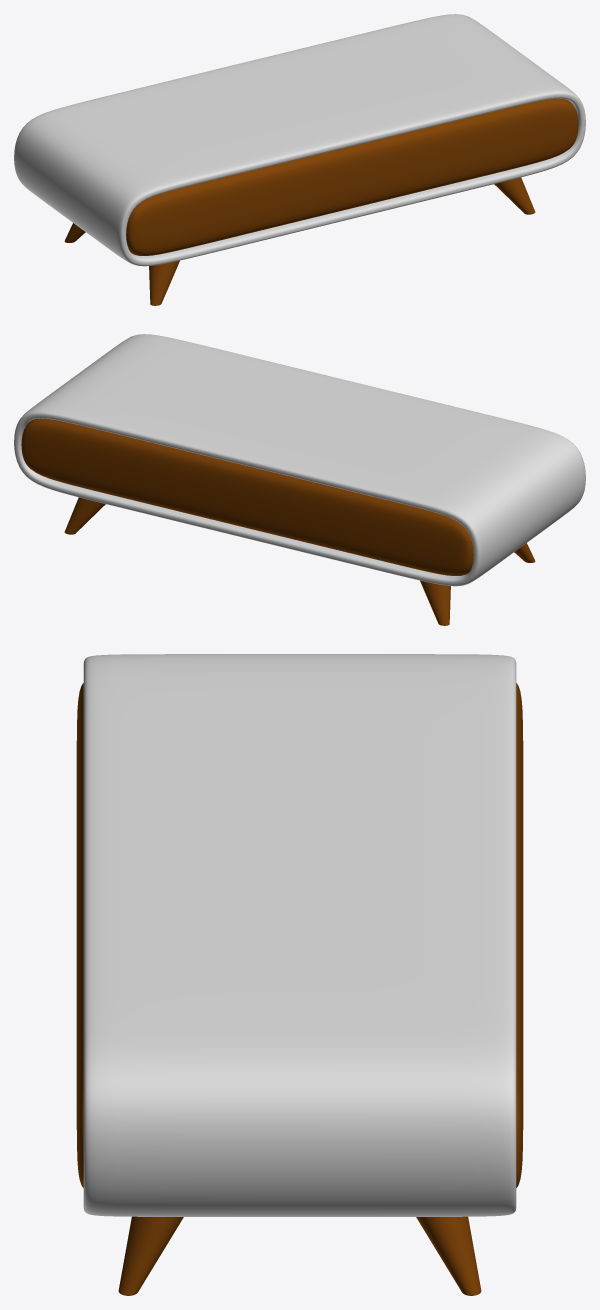
Rendered from table.gltf.
3 renders of one model, top to bottom at view 1: azimuth 30°, elevation 25°; view 2: azimuth 150°, elevation 25°; view 3: azimuth 270°, elevation 25°, orthographic. The views are drawn at different scales.
Visible parts, largest first — view 1: surface, core, legs; view 2: surface, core, legs; view 3: surface, core, legs.
Boxes of the visible parts, x1,y1,x2,y2 form: surface: (14,14,585,266); core: (126,98,578,255); legs: (64,177,535,305); surface: (14,334,585,586); core: (21,418,473,575); legs: (64,497,535,625); surface: (83,654,516,1216); core: (76,683,523,1187); legs: (118,1216,481,1295).
Bounding box in the file's own units: 150 × 38.97 × 61.94.
